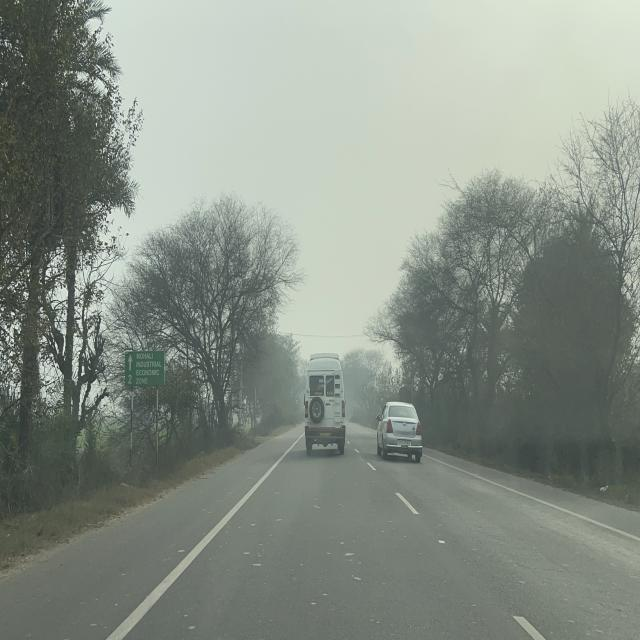GENERAL: (126, 349, 166, 388)
